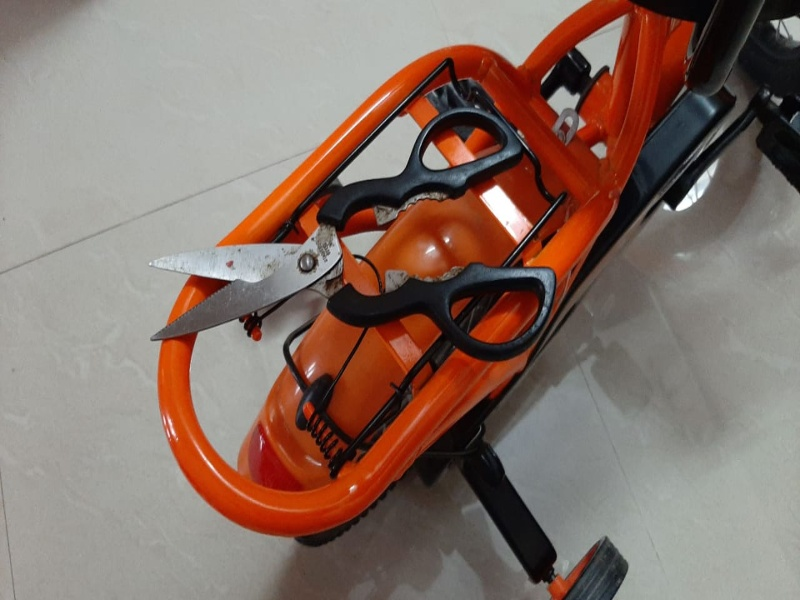scissor: (145, 101, 556, 362)
